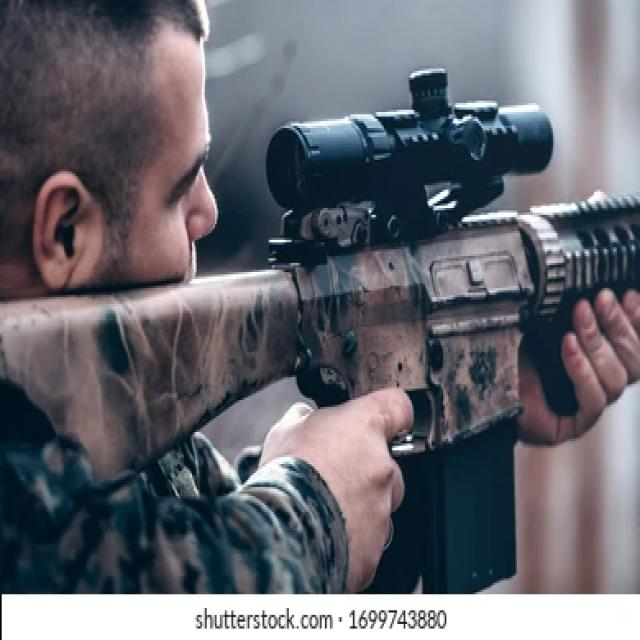soldier: (1, 1, 640, 514)
